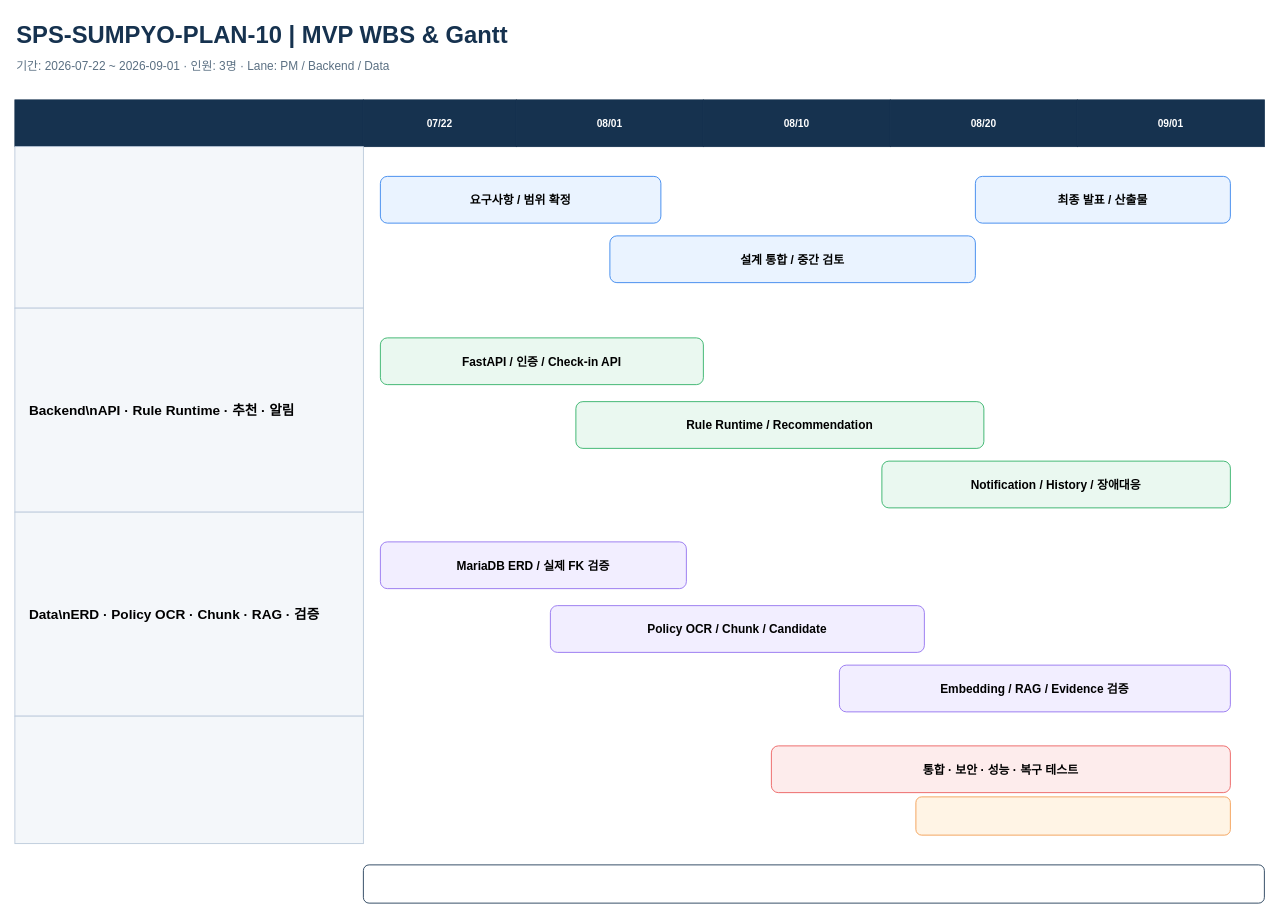
This 1279x918 diagram has some shape labels left out. The centre of each missing label's shape, as x and y in pixels:
Lane / Work Package: pixel 188 123
Milestone: 07/22 범위확정 · 08/01 기반구축 · 08/10 핵심엔진 · 08/20 통합 · 09/01 최종: pixel 813 883
PM\n기획 · 요구사항 · 통합 · 발표: pixel 188 227
공통\n통합 테스트 · 보안 · 문서화 · 시연: pixel 188 779
기술설계서 / 운영 가이드 / 시연 리허설: pixel 1072 815
